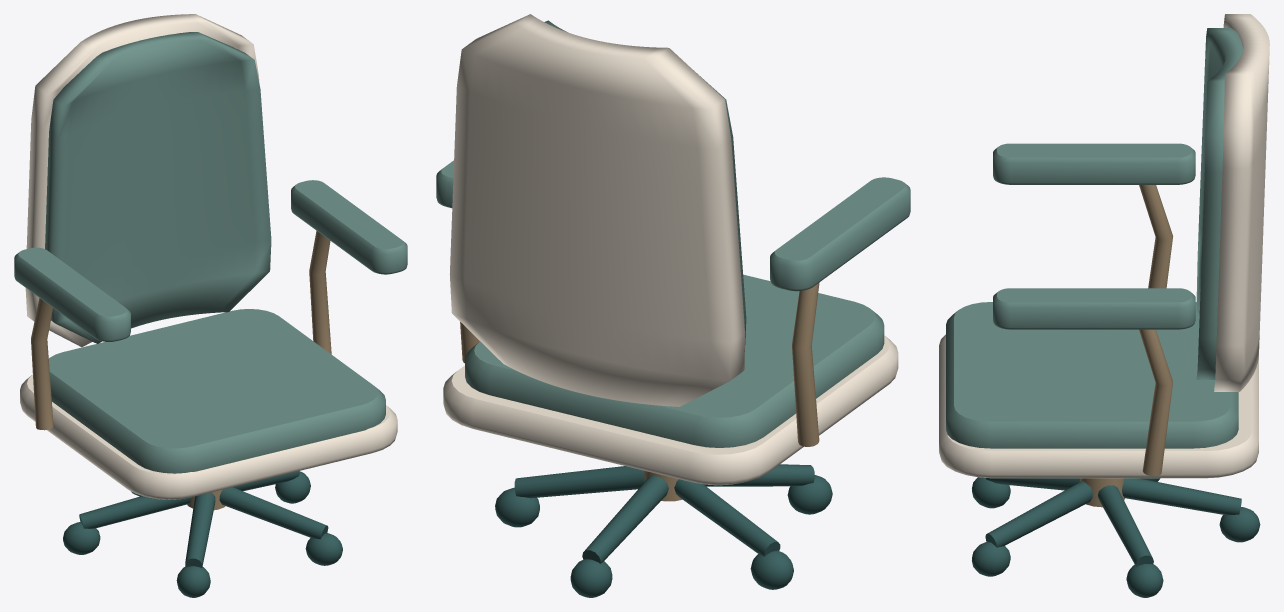
File: patient-chair.glb
The picture shows the model from 3 angles, left to right: view 1: azimuth 30°, elevation 25°; view 2: azimuth 150°, elevation 25°; view 3: azimuth 270°, elevation 25°; orthographic projection. The views are drawn at different scales.
Visible parts, largest first — view 1: patient-chair; view 2: patient-chair; view 3: patient-chair.
Part boxes in pixels (<box>): patient-chair: <box>14,14,407,597</box>; patient-chair: <box>436,14,910,597</box>; patient-chair: <box>939,14,1269,597</box>.
Size of the model in its own units: 0.565 by 0.805 by 0.486.
